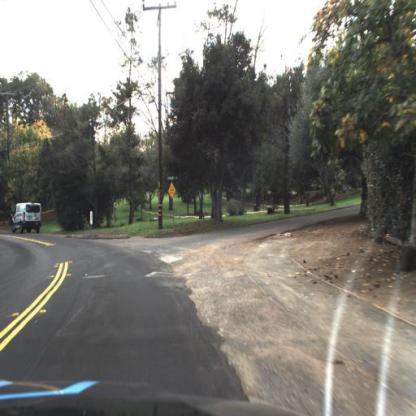truck: (11, 202, 42, 233)
